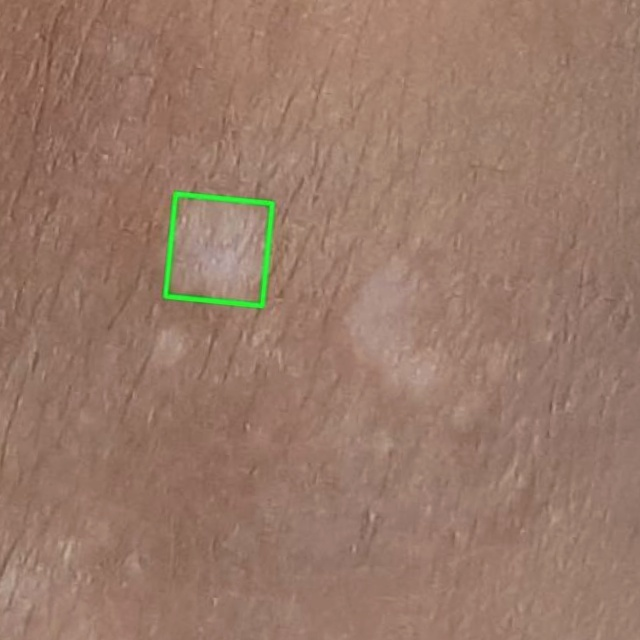Eczema: (165, 193, 272, 305)
